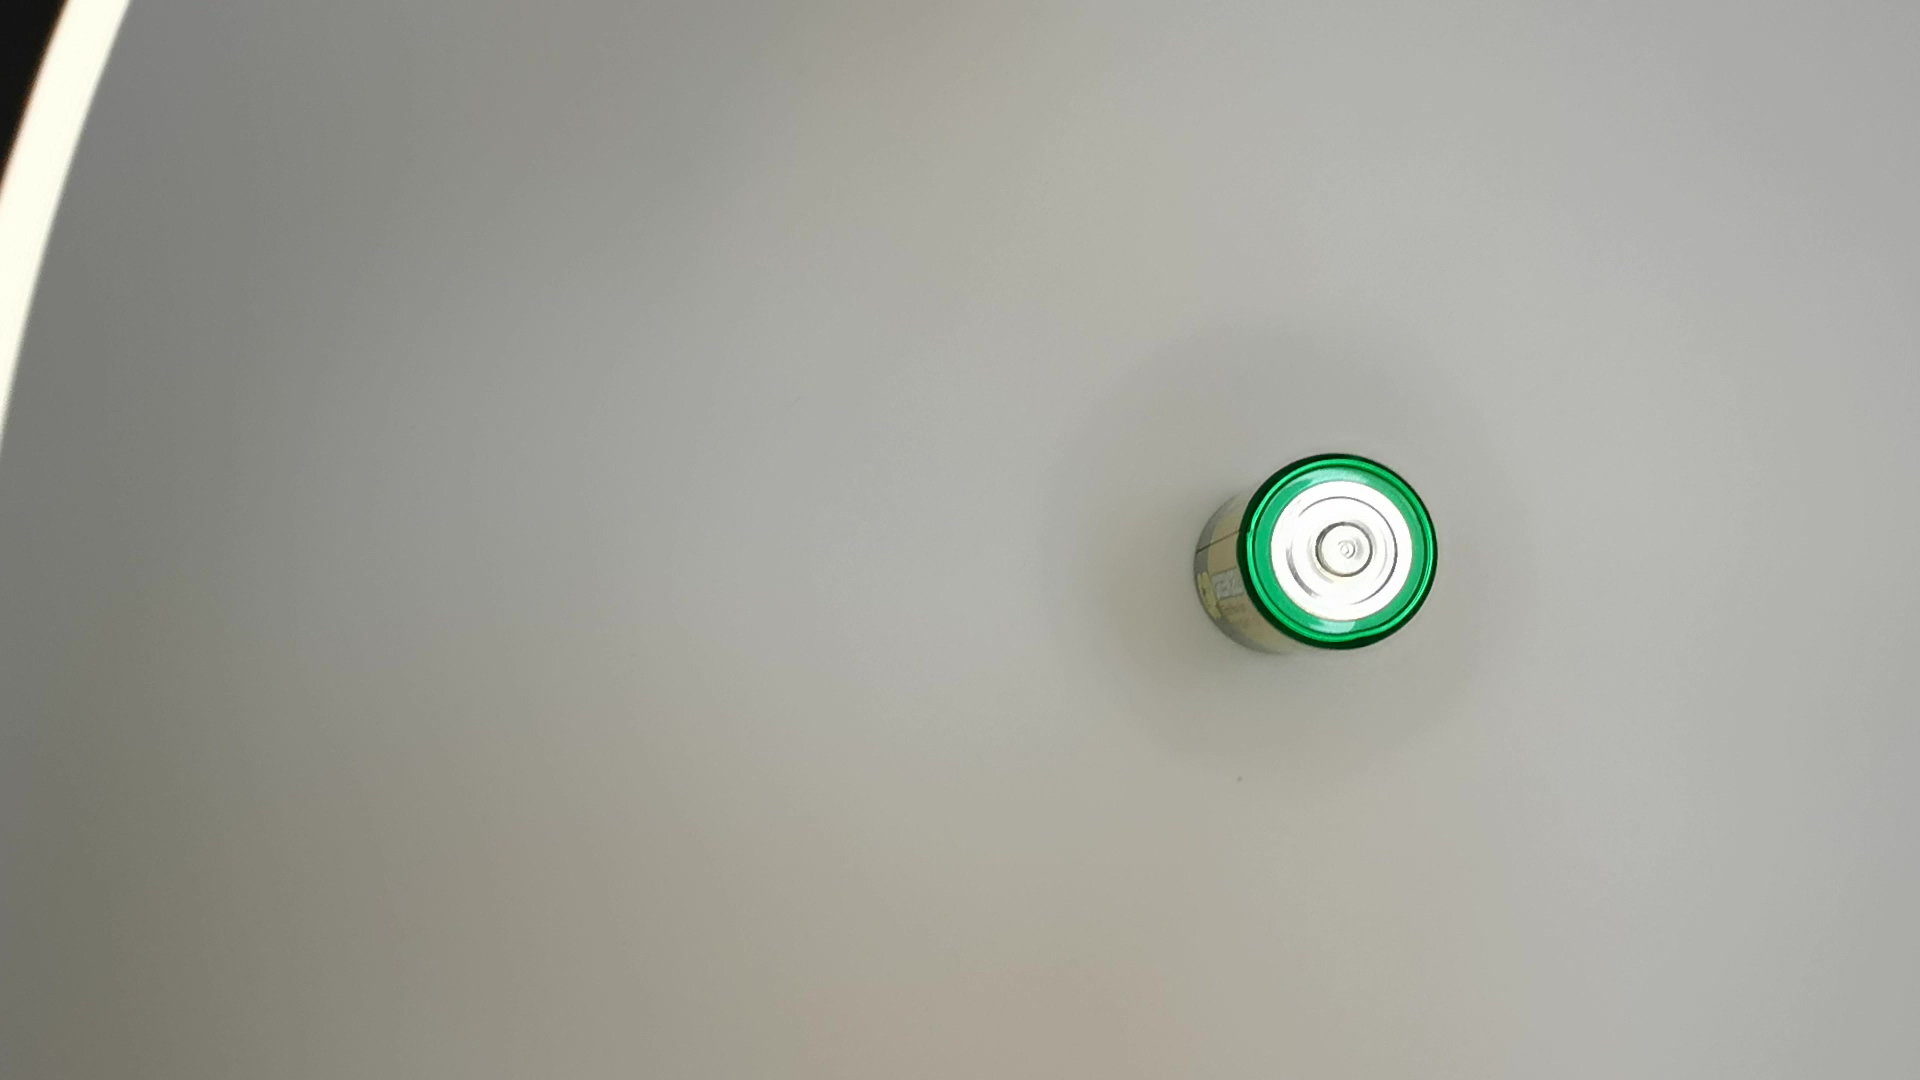battery: (1189, 452, 1440, 667)
